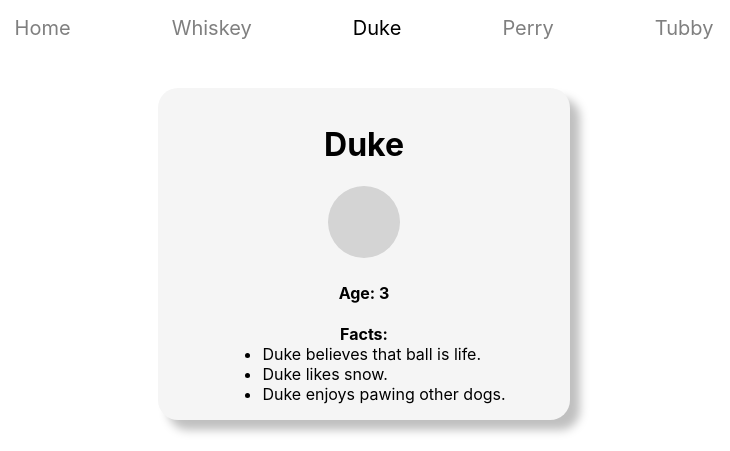
Scenario: check that the navbar links are working › should show the DogDetail for Perry when Perry's NavLink is clicked
expect the list item "Duke believes that ball is life." is shown: met, box [262,344,506,364]
Step 1. Click the link "Perry" → (528, 28), box [502,16,554,40]
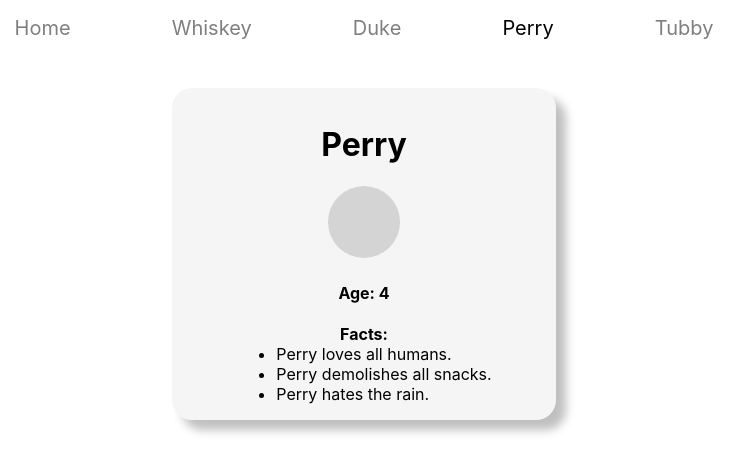
expect the list item "Perry loves all humans." is shown: met, box [276,344,452,364]
